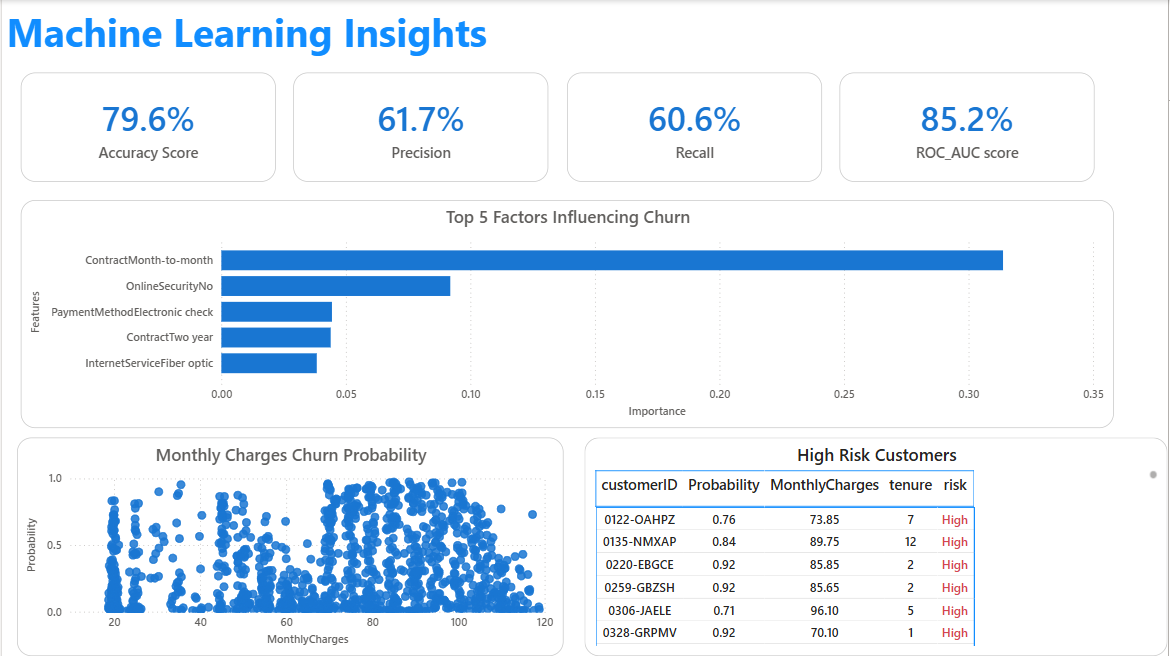

The dashboard page shown, as its layout file describes it:
{"tool":"powerbi","page":{"name":"ML Insights","canvas":[1280,720],"ordinal":2},"visuals":[{"type":"card","fields":{"Values":["Sum(Results.Accuracy)"]},"box":[20,80,280,120],"z":0},{"type":"clusteredBarChart","title":"Top 5 Factors Influencing Churn","fields":{"Category":["feature_importance.Feature"],"Y":["Sum(feature_importance.Importance)"]},"box":[20,220,1200,250],"z":1000},{"type":"textbox","box":[0,0,1280,70],"z":2000},{"type":"card","fields":{"Values":["Sum(Results.Precision)"]},"box":[320,80,280,120],"z":3000},{"type":"card","fields":{"Values":["Sum(Results.Recall)"]},"box":[620,80,280,120],"z":4000},{"type":"card","fields":{"Values":["Sum(Results.ROC_AUC)"]},"box":[920,80,280,120],"z":5000},{"type":"scatterChart","title":"Monthly Charges Churn Probability","fields":{"Y":["model_predictions.Probability"],"X":["model_predictions.MonthlyCharges"]},"box":[16,480,600,240],"z":6000},{"type":"tableEx","title":"High Risk Customers","fields":{"Values":["model_predictions.customerID","model_predictions.Probability","model_predictions.MonthlyCharges","model_predictions.tenure","model_predictions.risk"]},"box":[640,480,640,240],"z":7000}]}

Visuals, with their boxes in screenshot pixels (x1, y1, x2, y2), scaled from the page's 1280x720 canvas onto the 1170x656 screenshot:
card - Sum(Results.Accuracy): pyautogui.locateOnScreen(18, 73, 274, 182)
"Top 5 Factors Influencing Churn" clusteredBarChart: pyautogui.locateOnScreen(18, 200, 1115, 428)
textbox: pyautogui.locateOnScreen(0, 0, 1169, 64)
card - Sum(Results.Precision): pyautogui.locateOnScreen(292, 73, 548, 182)
card - Sum(Results.Recall): pyautogui.locateOnScreen(567, 73, 823, 182)
card - Sum(Results.ROC_AUC): pyautogui.locateOnScreen(841, 73, 1097, 182)
"Monthly Charges Churn Probability" scatterChart: pyautogui.locateOnScreen(15, 437, 563, 655)
"High Risk Customers" tableEx: pyautogui.locateOnScreen(585, 437, 1169, 655)
